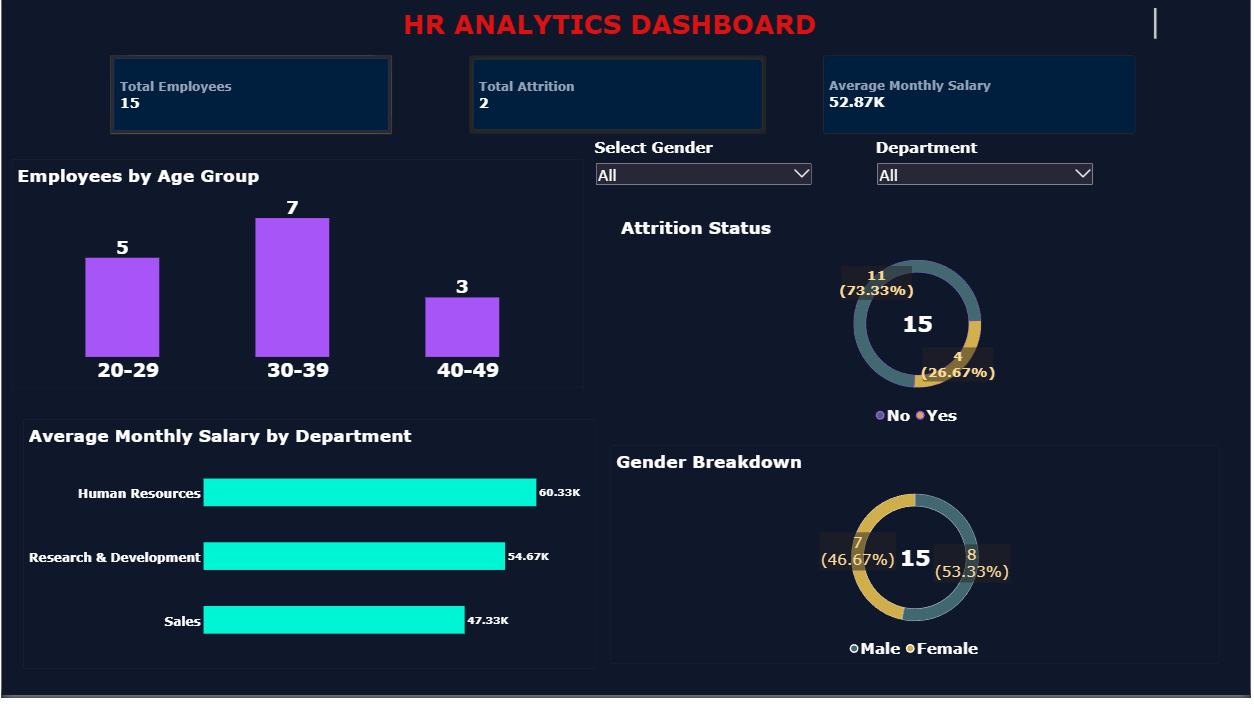

The dashboard page shown, as its layout file describes it:
{"tool":"powerbi","page":{"name":"Page 1","canvas":[3840,2160],"ordinal":0},"visuals":[{"type":"shape","box":[1824,624,1872,624],"z":0},{"type":"shape","box":[336,192,864,240],"z":1000},{"type":"cardVisual","fields":{"Data":["Count(HR_Analytics.employeeID)"]},"box":[336,192,864,240],"z":2000},{"type":"donutChart","title":"Gender Breakdown","fields":{"Category":["HR_Analytics.gender"],"Y":["CountNonNull(HR_Analytics.employeeID)"]},"box":[1872,1392,1872,672],"z":3000},{"type":"clusteredColumnChart","title":"Employees by Age Group","fields":{"Category":["HR_Analytics.Age Group"],"Y":["CountNonNull(HR_Analytics.employeeID)"]},"box":[0,768,1776,624],"z":4000},{"type":"donutChart","title":"Attrition Status","fields":{"Category":["HR_Analytics.Attrition"],"Y":["CountNonNull(HR_Analytics.employeeID)"]},"box":[1872,624,1872,720],"z":5000},{"type":"clusteredBarChart","title":"Average Monthly Salary by Department","fields":{"Category":["HR_Analytics.Department"],"Y":["Avg(HR_Analytics.Monthly Salary)"]},"box":[0,1392,1776,768],"z":6000},{"type":"textbox","box":[192,48,3360,96],"z":7000},{"type":"cardVisual","fields":{"Data":["Avg(HR_Analytics.Monthly Salary)"]},"box":[2544,192,960,240],"z":8000},{"type":"cardVisual","fields":{"Data":["Count(HR_Analytics.Attrition)"]},"box":[1440,192,912,240],"z":9000},{"type":"slicer","fields":{"Values":["HR_Analytics.Department"]},"box":[720,480,672,240],"z":10000},{"type":"slicer","title":"Select Gender","fields":{"Values":["HR_Analytics.gender"]},"box":[0,480,672,240],"z":11000}]}

Visuals, with their boxes in screenshot pixels (x1, y1, x2, y2), scaled from the page's 3840x2160 canvas onto the 1254x708 screenshot:
shape: 596 205 1207 409
shape: 110 63 392 142
cardVisual - Count(HR_Analytics.employeeID): 110 63 392 142
"Gender Breakdown" donutChart: 611 456 1223 677
"Employees by Age Group" clusteredColumnChart: 0 252 580 456
"Attrition Status" donutChart: 611 205 1223 441
"Average Monthly Salary by Department" clusteredBarChart: 0 456 580 707
textbox: 63 16 1160 47
cardVisual - Avg(HR_Analytics.Monthly Salary): 831 63 1144 142
cardVisual - Count(HR_Analytics.Attrition): 470 63 768 142
slicer - HR_Analytics.Department: 235 157 455 236
"Select Gender" slicer: 0 157 219 236
